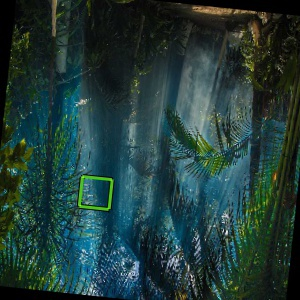square: (76, 172, 113, 214)
